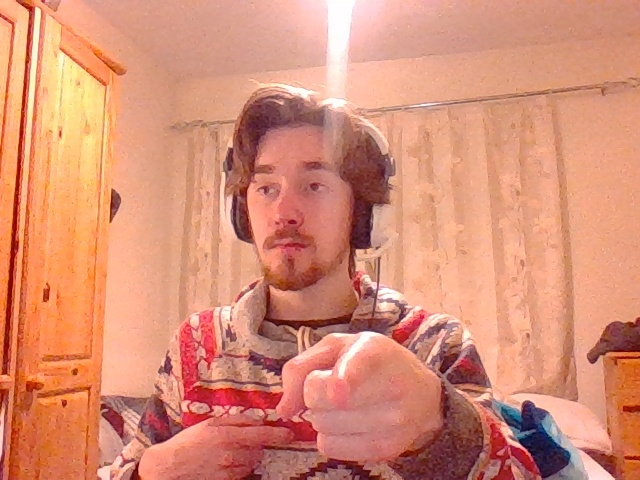you: (280, 331, 440, 459)
